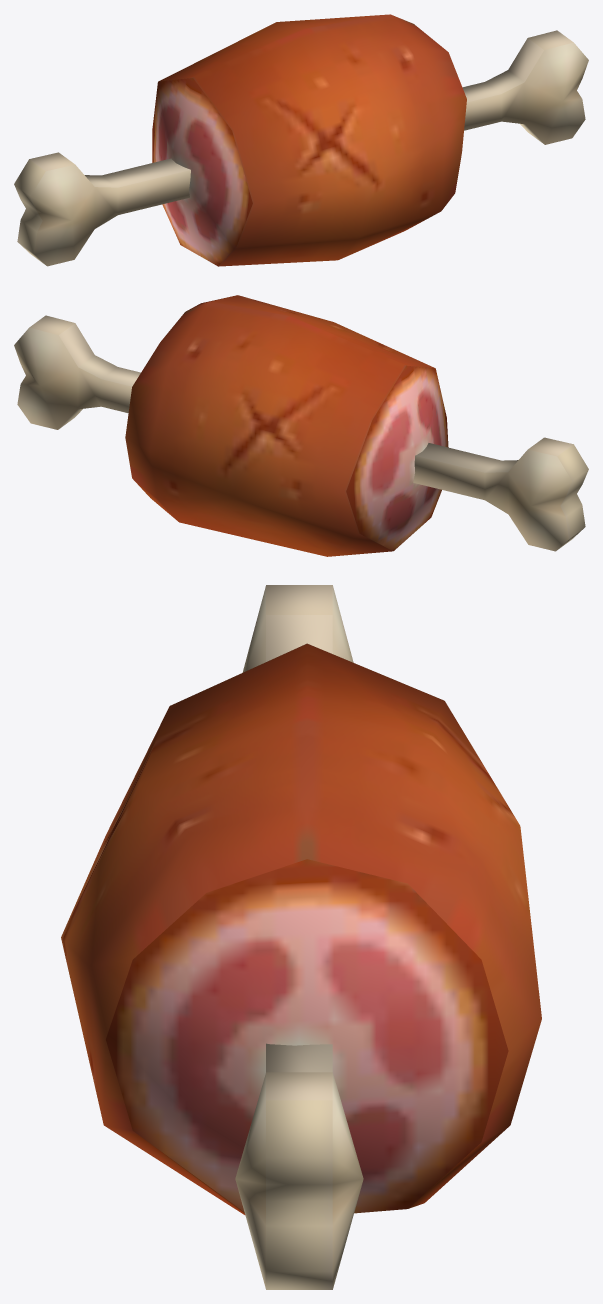
3 renders of one model, top to bottom at view 1: azimuth 30°, elevation 25°; view 2: azimuth 150°, elevation 25°; view 3: azimuth 270°, elevation 25°, orthographic. The views are drawn at different scales.
Visible parts, largest first — view 1: [GIMMICK]campfire_meat; view 2: [GIMMICK]campfire_meat; view 3: [GIMMICK]campfire_meat.
Part boxes in pixels (box(x1,y1,x2,y2)): [GIMMICK]campfire_meat: box(14, 14, 588, 266); [GIMMICK]campfire_meat: box(14, 295, 588, 556); [GIMMICK]campfire_meat: box(61, 585, 541, 1289).
Bounding box in the file's own units: 2.13 × 0.7874 × 0.796.
Materials: 1 (1 with a texture image).
